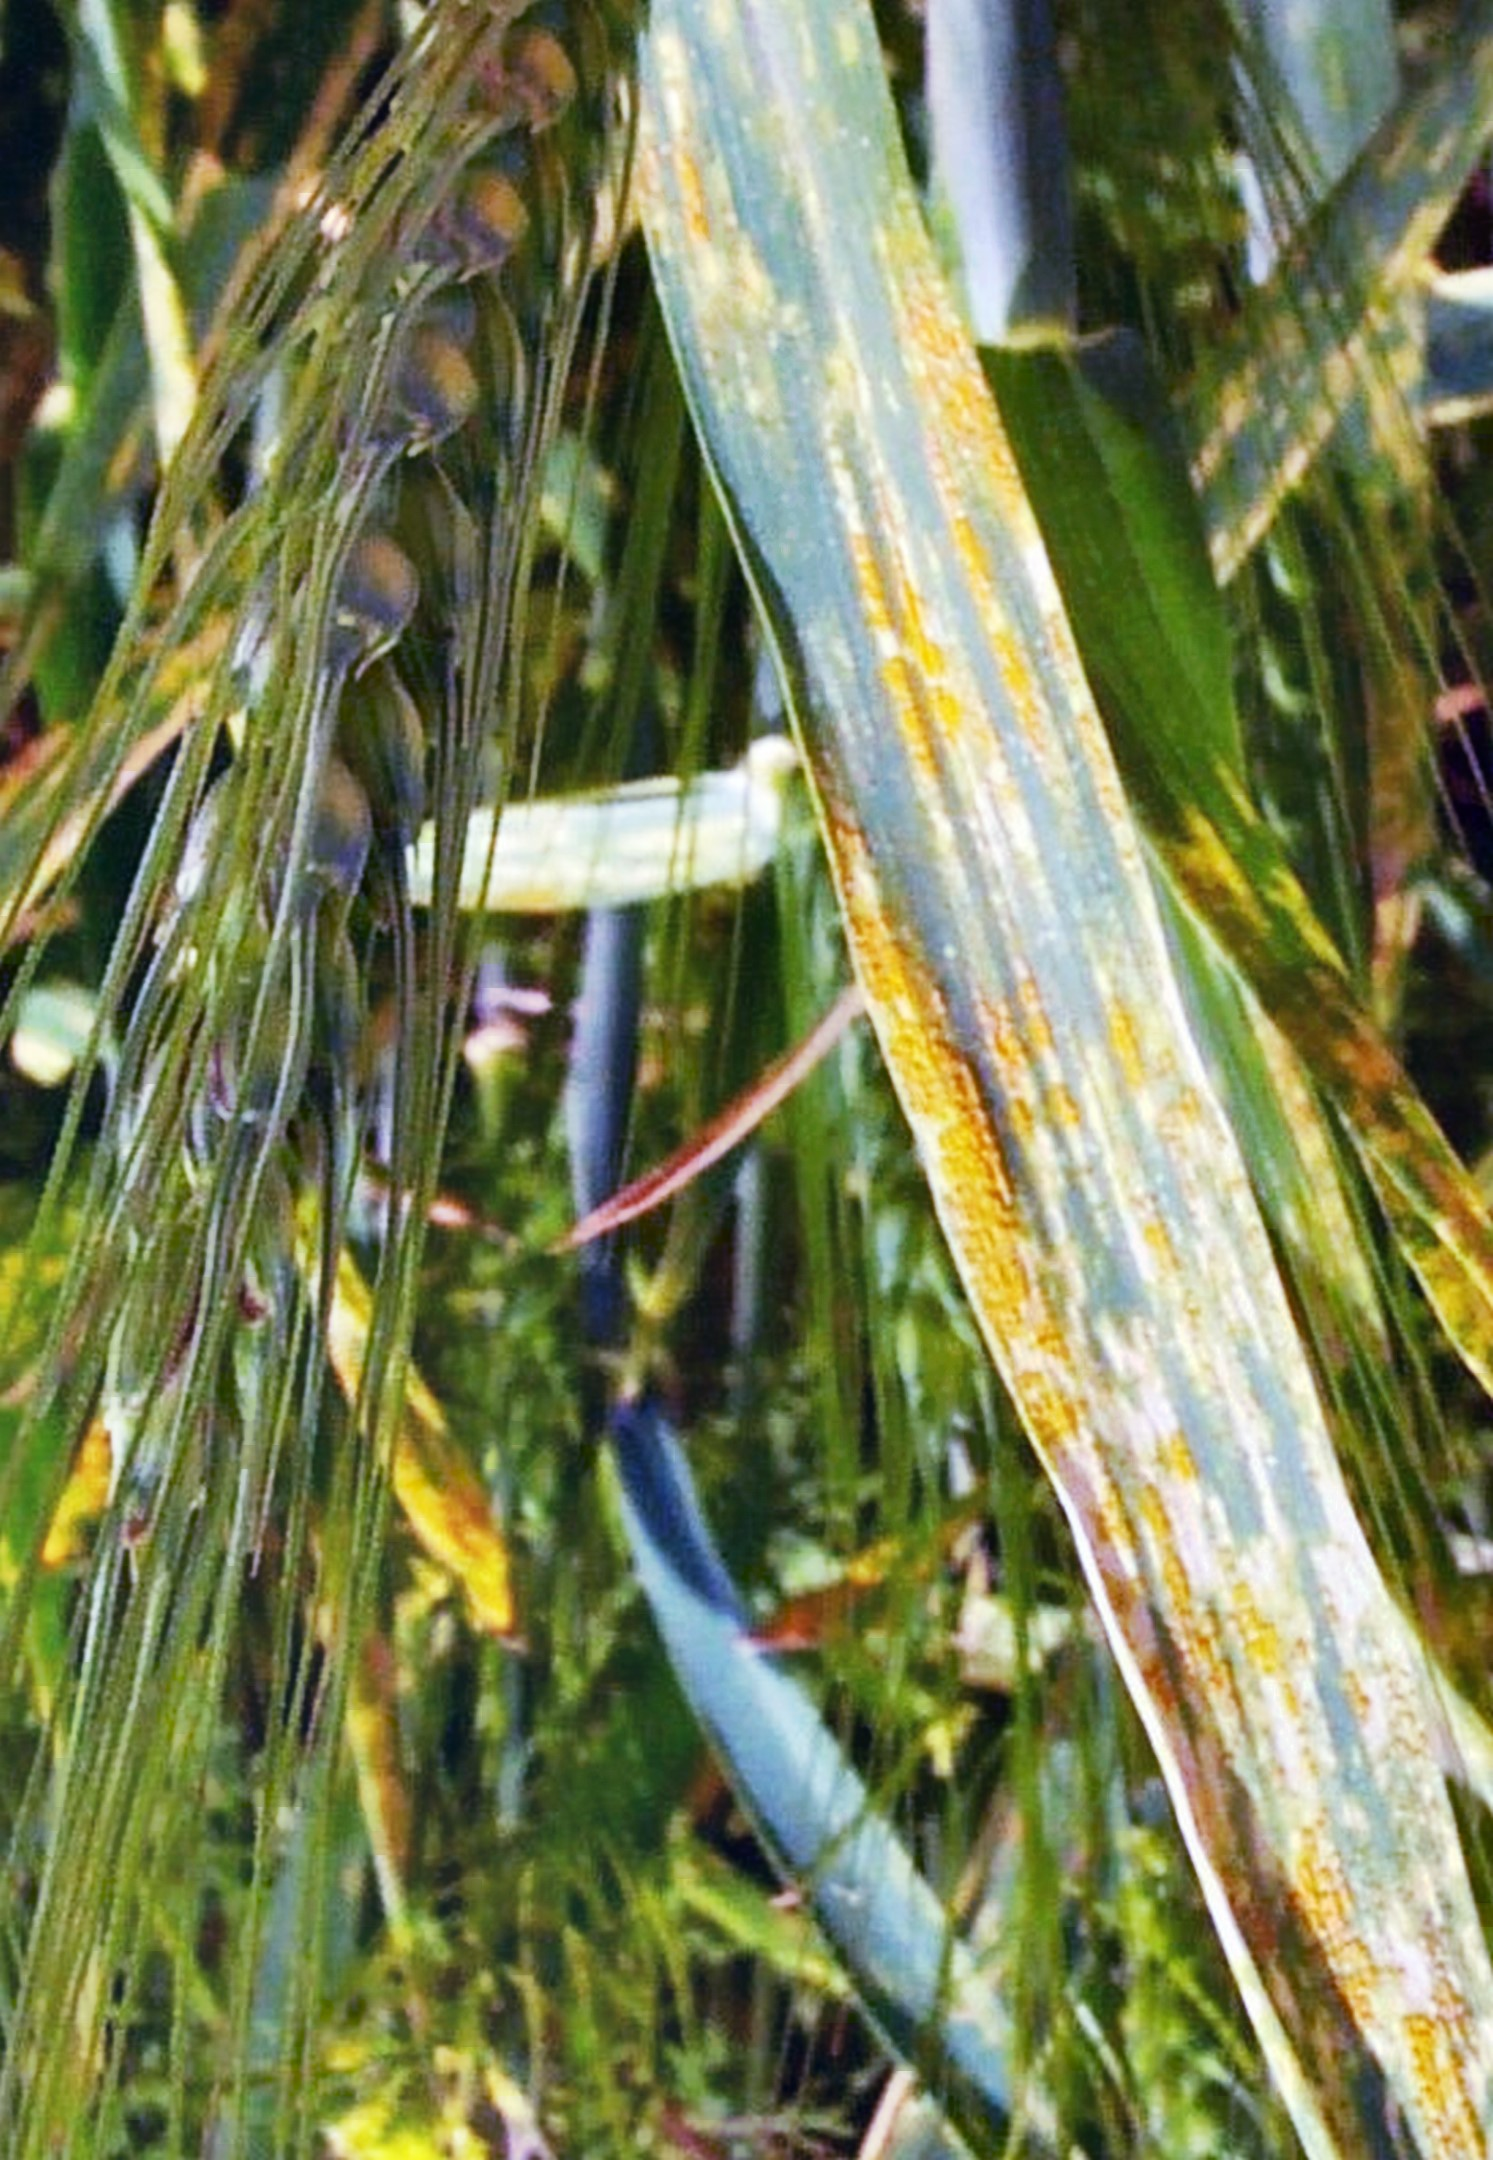Leaf Rust: (742, 417, 1273, 1533)
